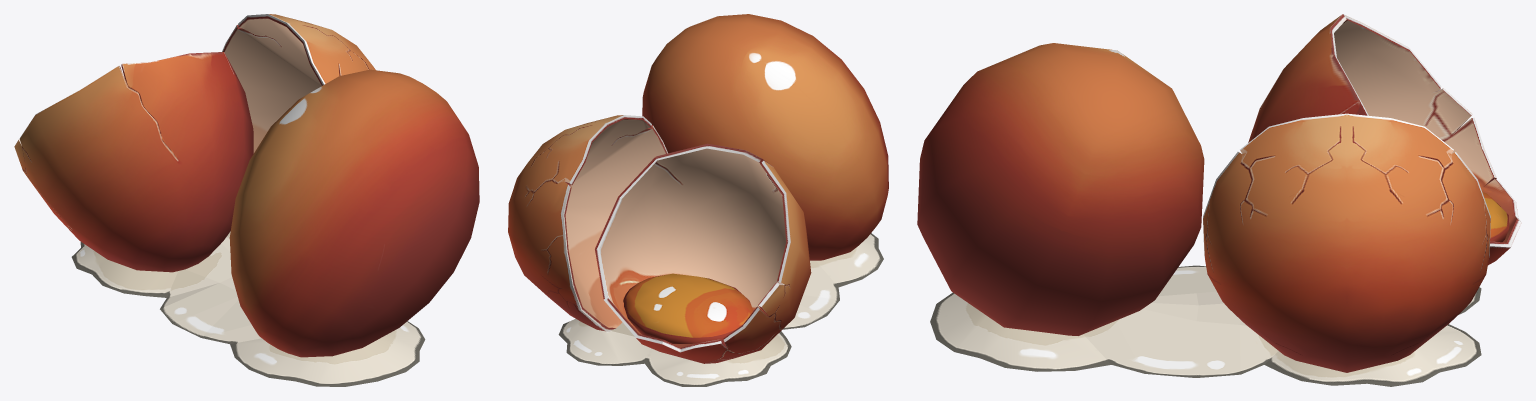
File: Egg.fbx
The picture shows the model from 3 angles, left to right: view 1: azimuth 30°, elevation 25°; view 2: azimuth 150°, elevation 25°; view 3: azimuth 270°, elevation 25°; orthographic projection. The views are drawn at different scales.
Parts seen in each view (by area): view 1: 040; view 2: 040; view 3: 040.
Boxes of the visible parts, x1=… form: 040: x1=14, y1=14, x2=479, y2=386; 040: x1=508, y1=14, x2=888, y2=386; 040: x1=917, y1=14, x2=1521, y2=386.
Size of the model in its own units: 34.86 by 25.29 by 46.73.
Materials: 1 (1 with a texture image).
